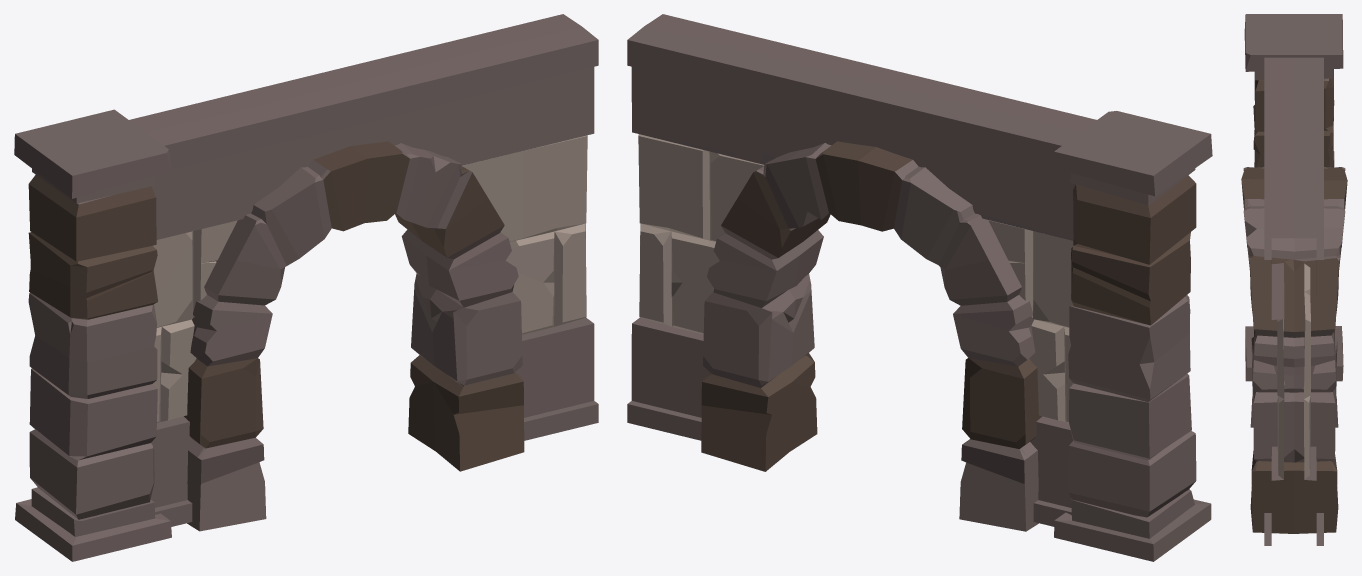
File: ArchdoorMD.fbx
3 renders of one model, left to right at view 1: azimuth 30°, elevation 25°; view 2: azimuth 150°, elevation 25°; view 3: azimuth 270°, elevation 25°, orthographic. The views are drawn at different scales.
Parts seen in each view (by area): view 1: Door.001; view 2: Door.001; view 3: Door.001.
Part boxes in pixels (x1,y1,x2,y2): Door.001: (14,14,598,561); Door.001: (627,14,1212,561); Door.001: (1241,14,1347,545).
Bounding box in the file's own units: 89.29 × 308 × 442.
